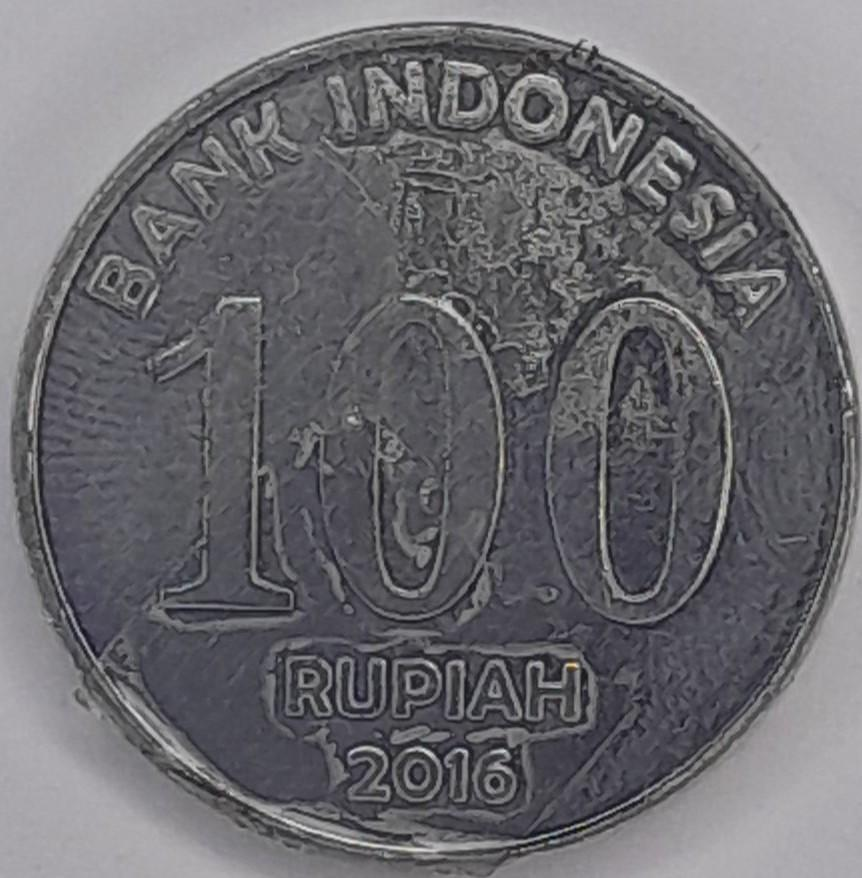coin_100_e2016: (6, 16, 861, 874)
